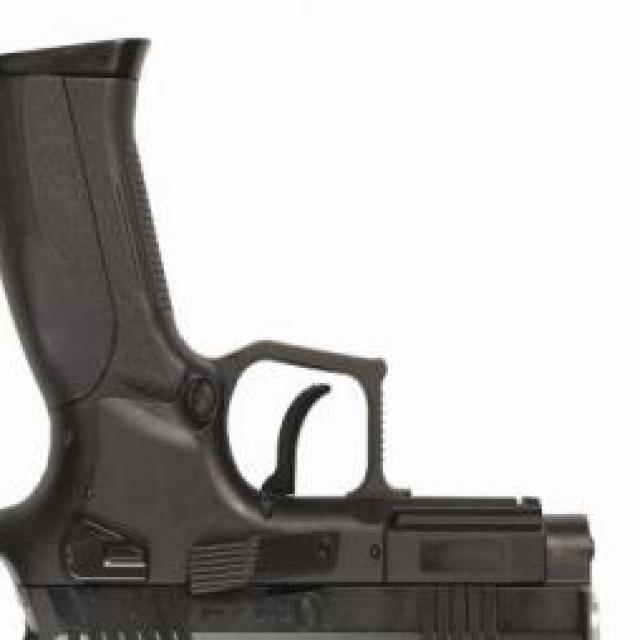pistol: (0, 40, 602, 640)
